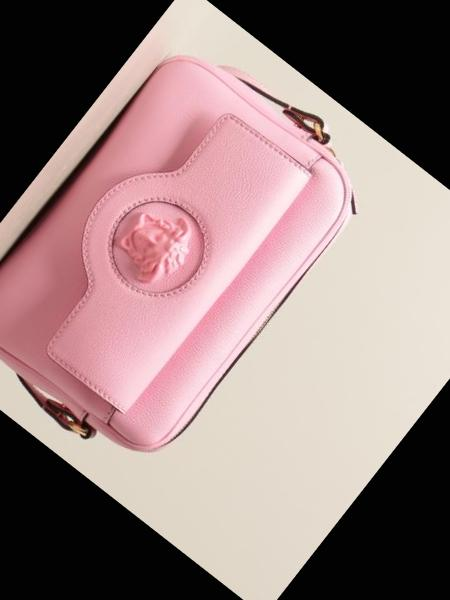VERSACE: (86, 176, 232, 322)
